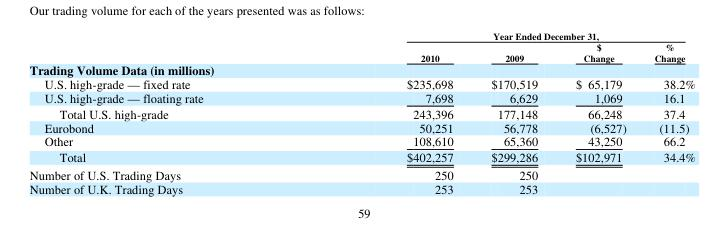table: (28, 29, 694, 196)
table column: (28, 29, 304, 196), (304, 29, 471, 196), (471, 29, 556, 196), (556, 29, 639, 196), (639, 29, 694, 196)
table column header: (28, 29, 694, 62)
table projected row header: (28, 62, 694, 76)
table row: (28, 41, 694, 62), (28, 148, 694, 165), (28, 180, 694, 196), (28, 90, 694, 105), (28, 133, 694, 148), (28, 165, 694, 180), (28, 62, 694, 76), (28, 76, 694, 90), (28, 105, 694, 119), (28, 119, 694, 133), (28, 29, 694, 41)
table spanning cell: (304, 29, 694, 41)
